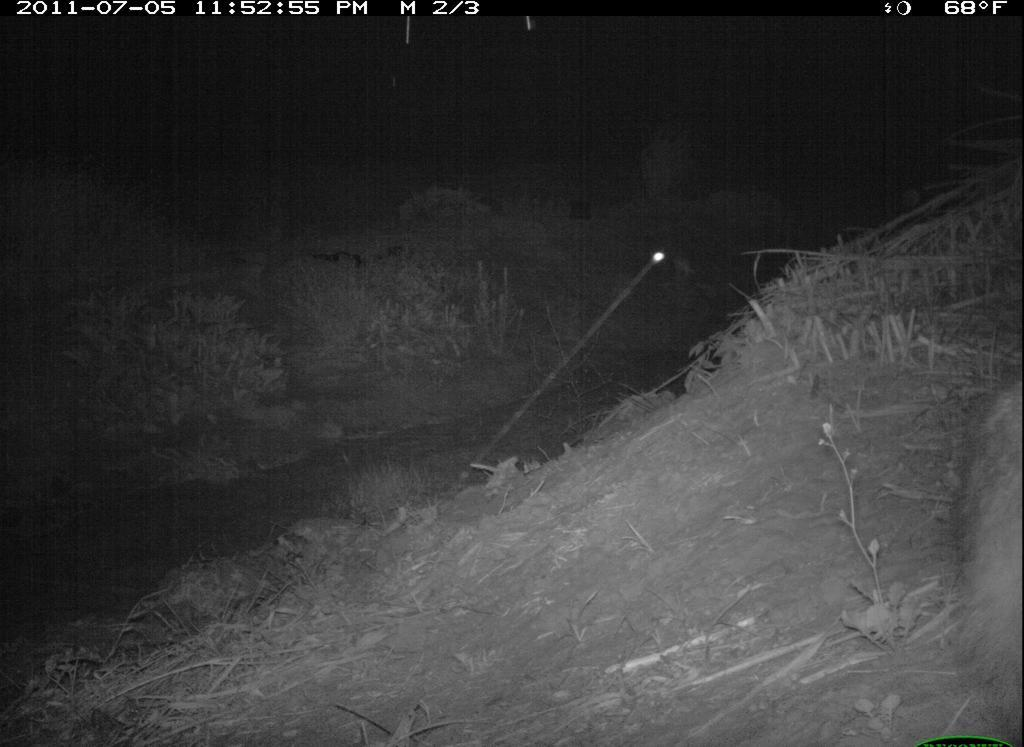raccoon: (940, 358, 1023, 747)
